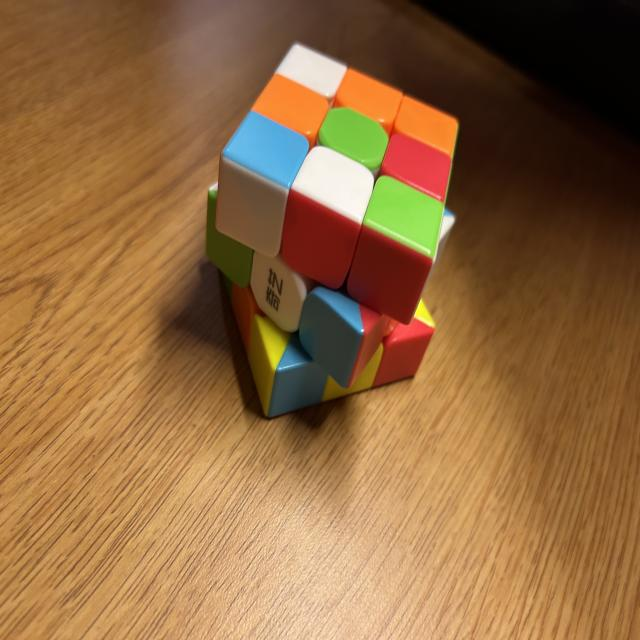Rubiks Cube: (206, 41, 461, 417)
